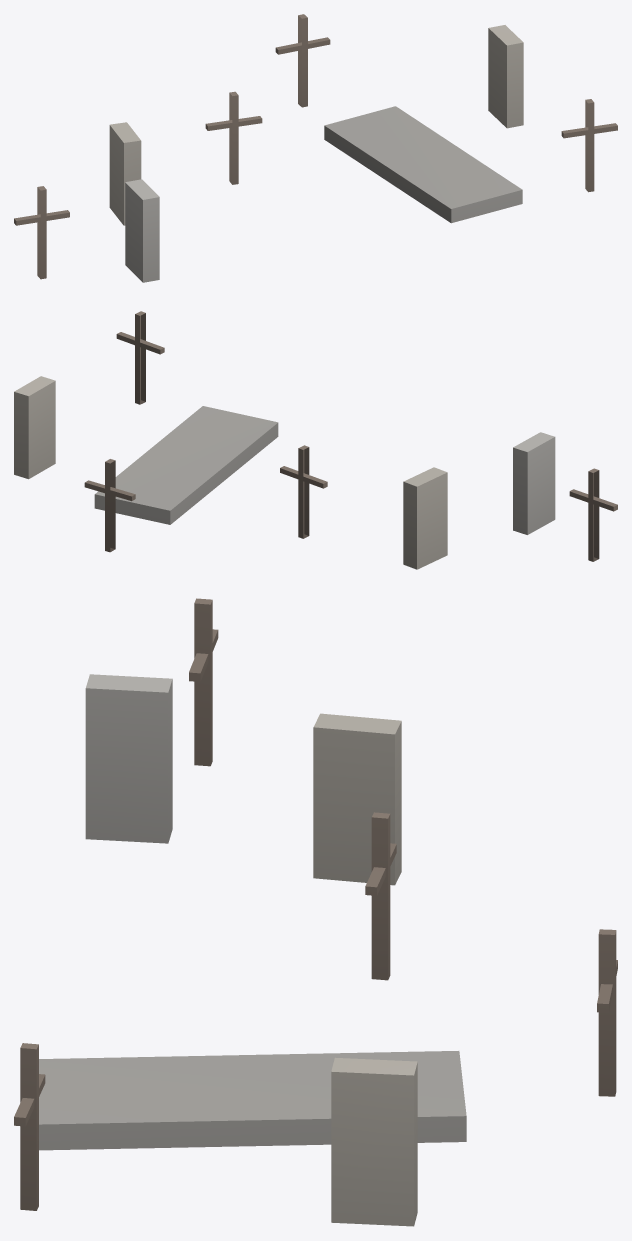
The model's file is graves_1.glb.
3 views of the same model, one above another, from view 1: azimuth 30°, elevation 25°; view 2: azimuth 150°, elevation 25°; view 3: azimuth 270°, elevation 25° (orthographic). The views are drawn at different scales.
Visible parts, largest first — view 1: graves_1; view 2: graves_1; view 3: graves_1.
Boxes of the visible parts, left/top/right/bottom form: graves_1: left=14, top=14, right=617, bottom=282; graves_1: left=14, top=311, right=617, bottom=569; graves_1: left=14, top=598, right=617, bottom=1226.
Size of the model in its own units: 4.86 by 0.75 by 2.54.
